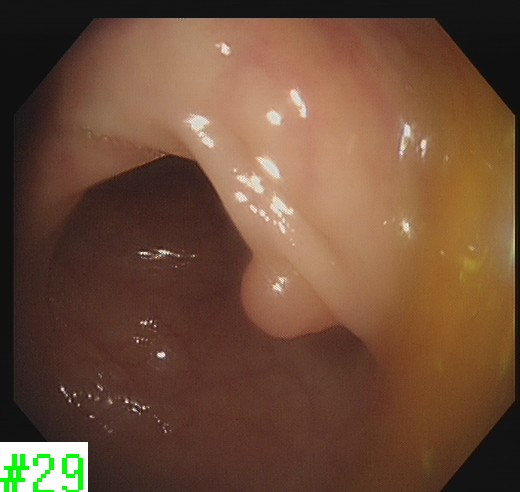adenoma: (237, 251, 347, 341)
